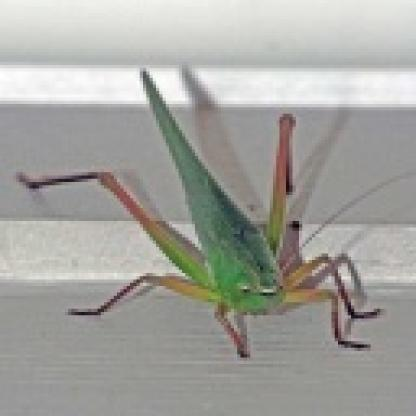grasshopper: (20, 69, 382, 349)
